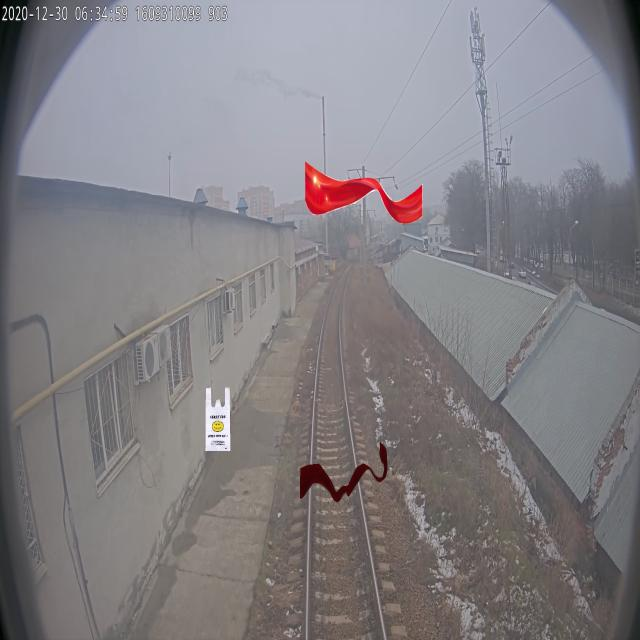floating object: (302, 161, 425, 225), (298, 439, 388, 504)
plastic bag: (205, 387, 231, 451)
